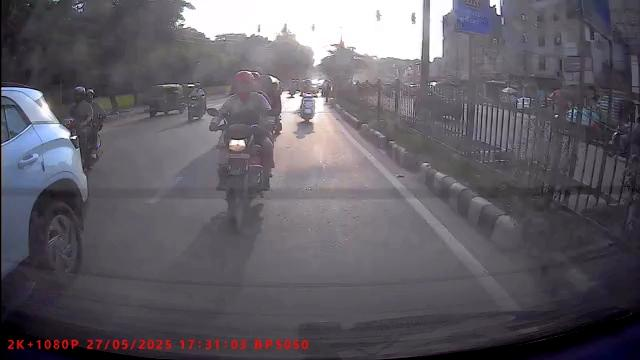motorcycle_with_helmet: (208, 67, 280, 232), (65, 83, 106, 173), (298, 83, 317, 122)
